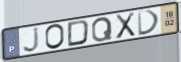D: (66, 19, 91, 48), (136, 9, 161, 37)
J: (22, 26, 41, 53)
O: (44, 23, 66, 51)
Q: (91, 16, 114, 44)
X: (114, 11, 137, 41)
